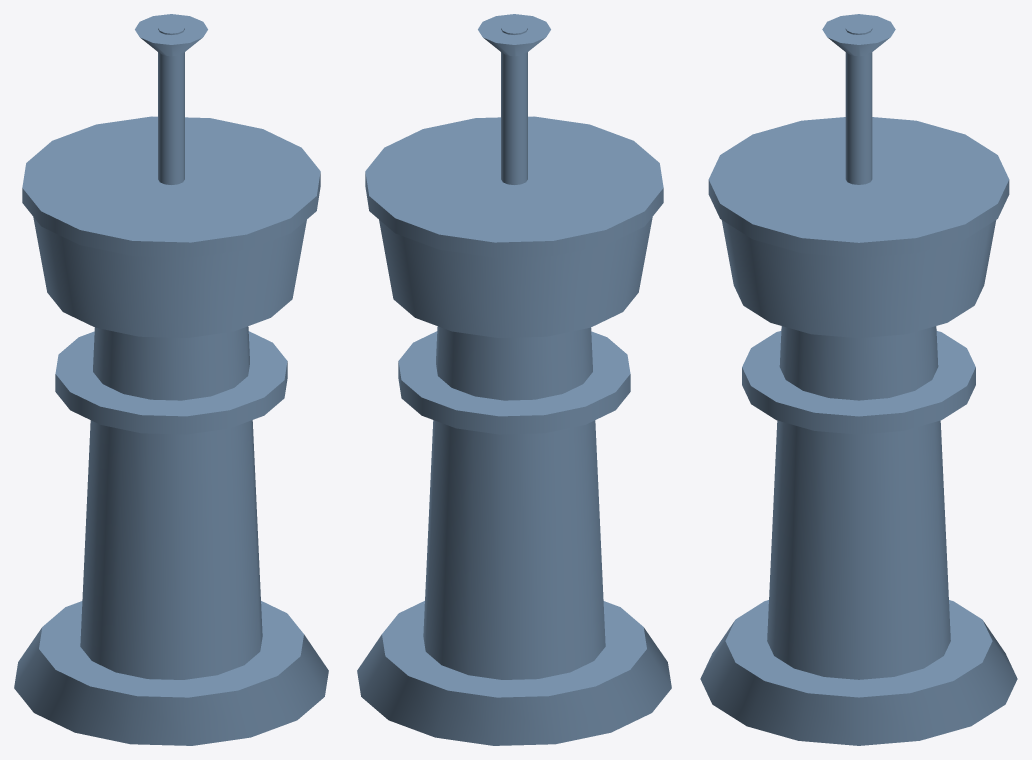
The model's file is control_tower.gltf.
3 views of the same model, side by side, from view 1: azimuth 30°, elevation 25°; view 2: azimuth 150°, elevation 25°; view 3: azimuth 270°, elevation 25° (orthographic).
Parts seen in each view (by area): view 1: MunicipalWaterControlTower; view 2: MunicipalWaterControlTower; view 3: MunicipalWaterControlTower.
Boxes of the visible parts, x1,y1,x2,y2 form: MunicipalWaterControlTower: (14, 14, 328, 745); MunicipalWaterControlTower: (357, 14, 671, 745); MunicipalWaterControlTower: (700, 14, 1017, 745).
Bounding box in the file's own units: 19 × 43 × 19.
